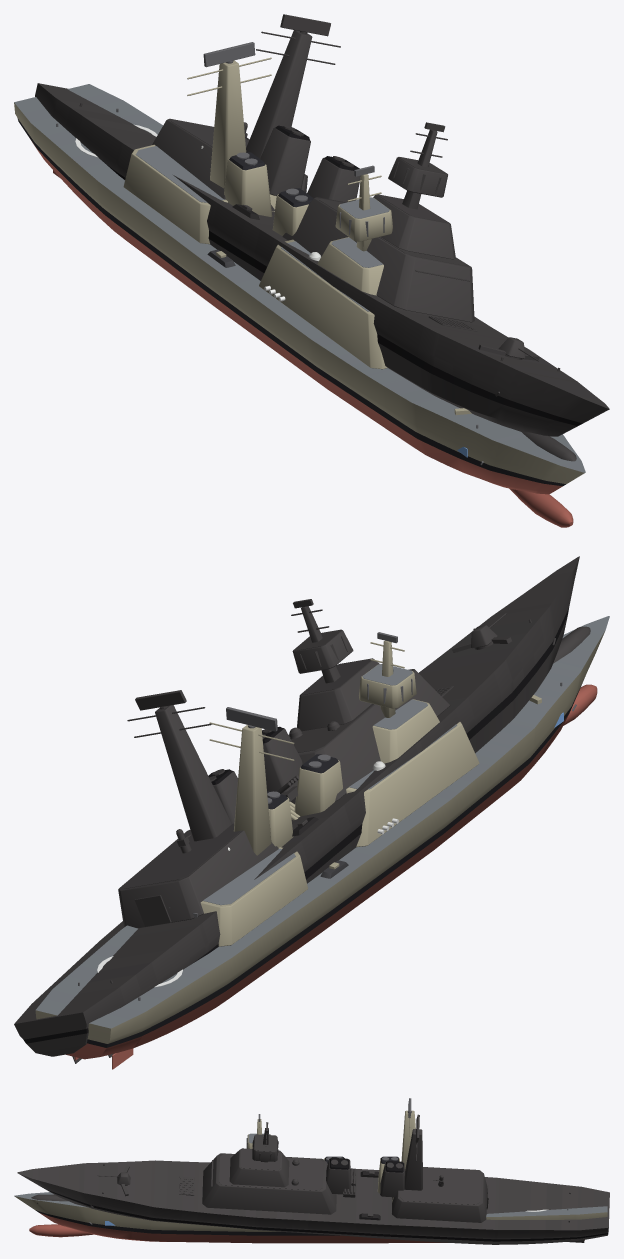
The model's file is asFrigate__de_zeven_provincien_class.glb.
3 renders of one model, top to bottom at view 1: azimuth 30°, elevation 25°; view 2: azimuth 150°, elevation 25°; view 3: azimuth 270°, elevation 25°, orthographic. The views are drawn at different scales.
Visible parts, largest first — view 1: Hull_Mesh, Wreck, Radar_Mesh; view 2: Wreck, Hull_Mesh, Radar_Mesh; view 3: Wreck, Hull_Mesh.
Part boxes in pixels (left/top/right/bottom): Hull_Mesh: left=14, top=57, right=585, bottom=527; Wreck: left=35, top=14, right=609, bottom=461; Radar_Mesh: left=203, top=42, right=255, bottom=67; Wreck: left=14, top=556, right=590, bottom=1063; Hull_Mesh: left=35, top=616, right=609, bottom=1069; Radar_Mesh: left=226, top=707, right=277, bottom=731; Wreck: left=17, top=1114, right=609, bottom=1244; Hull_Mesh: left=14, top=1110, right=607, bottom=1243.
Size of what is drawn, in the model's own units: 28.48 by 39.12 by 151.
